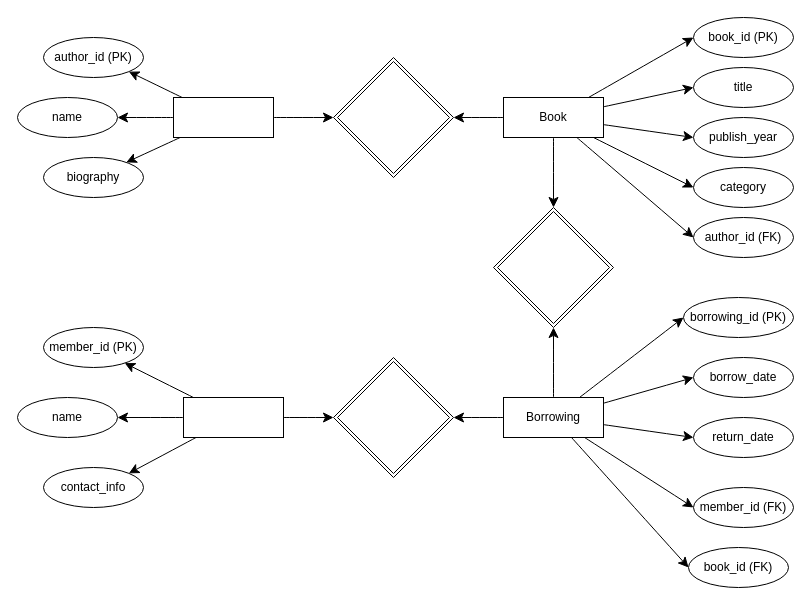
The diagram is 811 pixels wide and 605 high, and some of its shapes have lost their labels. The shapes that lost their labels are listed below. From the top down, each one's centre as x and y in pixels, then its label:
At (223,117): "Author".
At (393,117): "Writes".
At (553,267): "Involves".
At (233,417): "Member".
At (393,417): "Performs".
